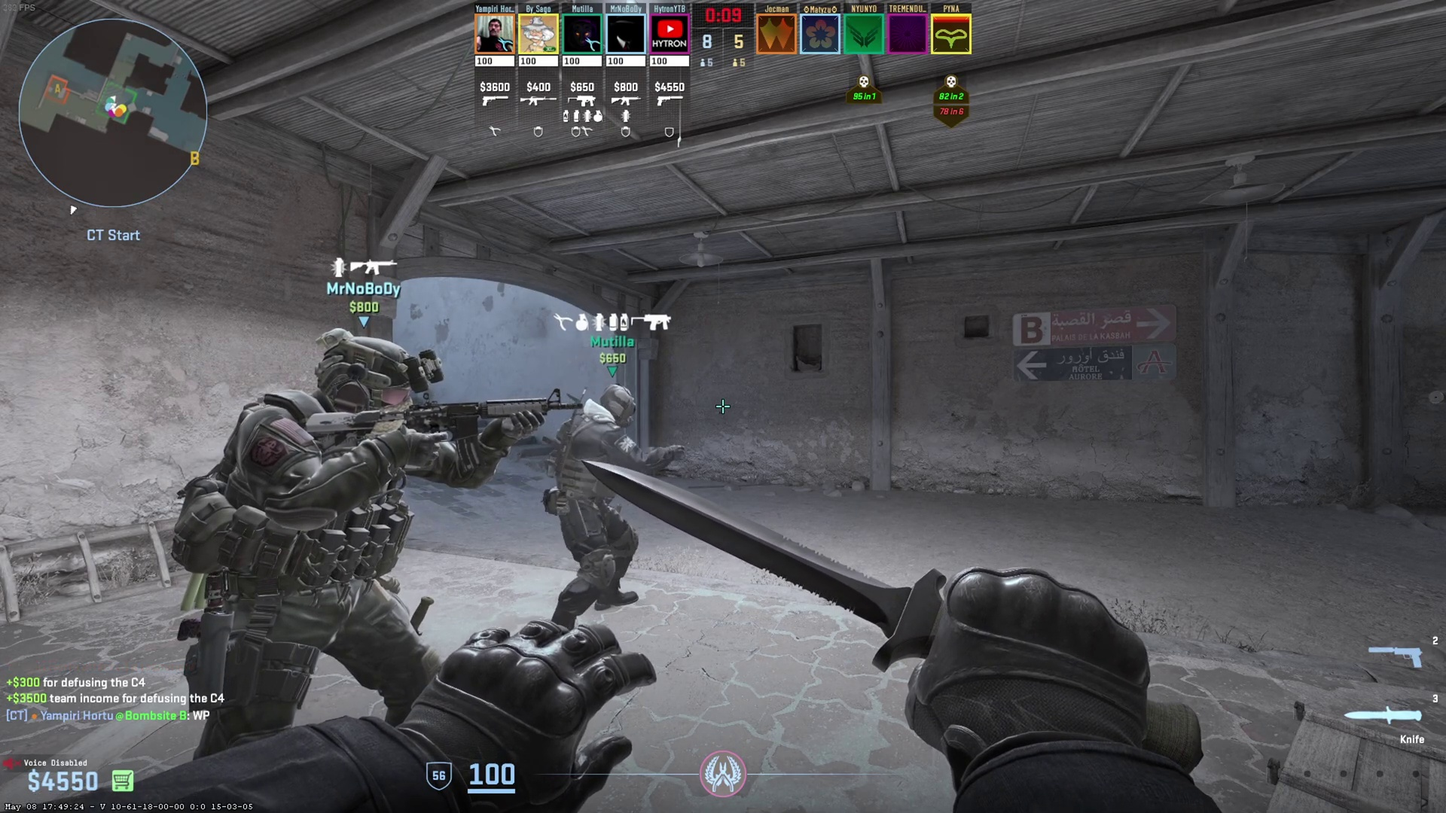CT: (188, 338, 449, 763), (549, 385, 643, 626)
